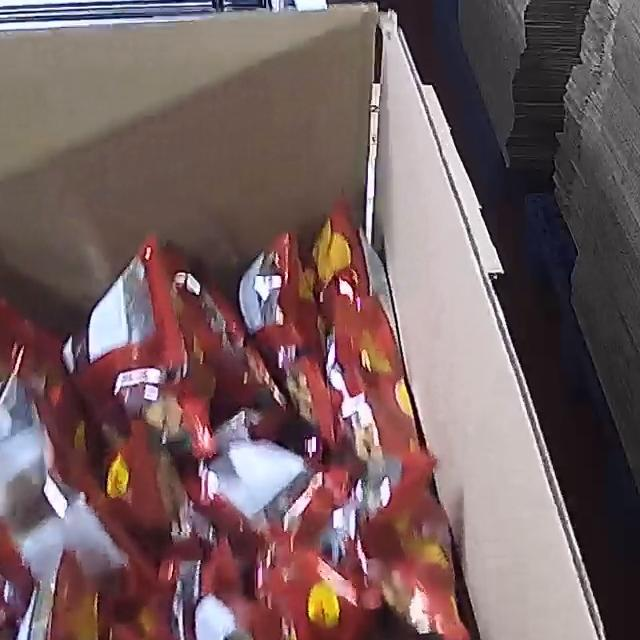masala: (0, 197, 477, 640)
